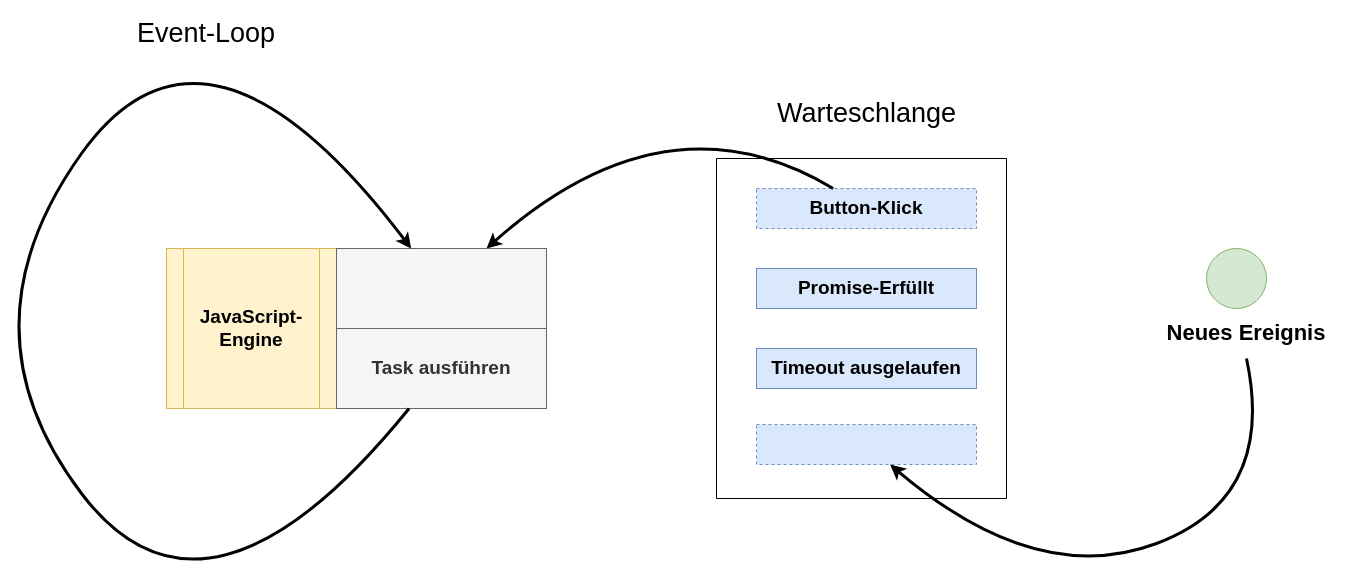
The diagram is 1353 pixels wide and 578 high, and some of its shapes have lost their labels. The shapes that lost their labels are listed below. From the top down, each one's box as (x1, y1, x2, y2) in pixels, then its label:
(336, 248, 546, 328): Nächsten Task abholen
(756, 424, 976, 464): Mausbewegung
